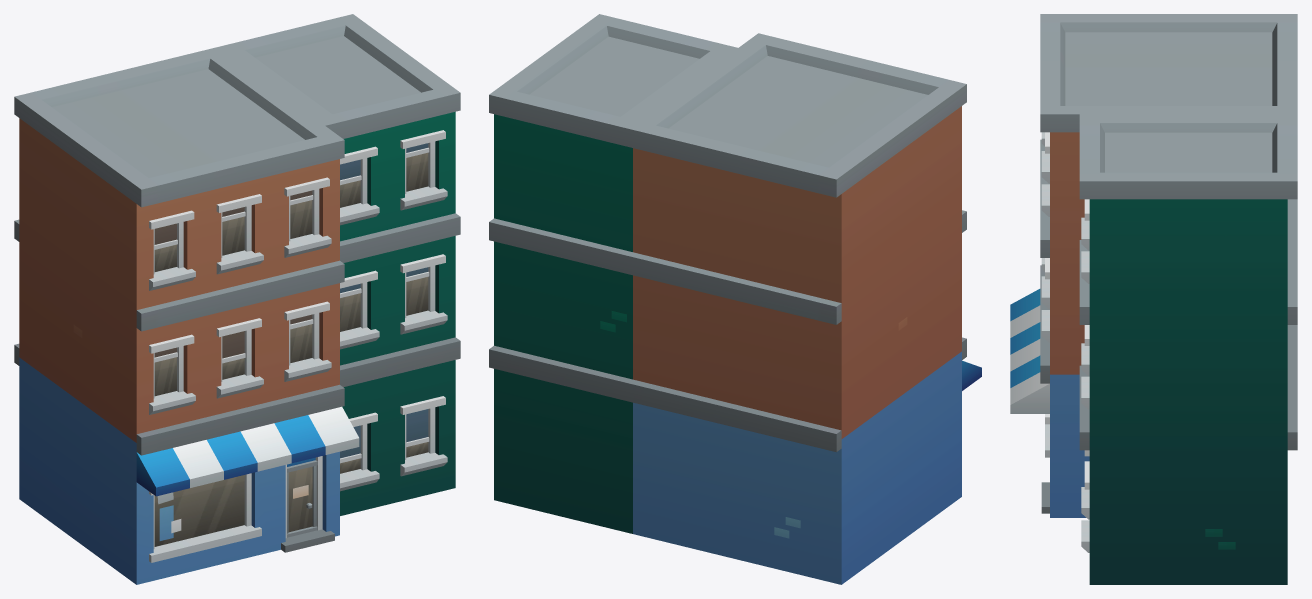
Rendered from city-g.glb.
3 renders of one model, left to right at view 1: azimuth 30°, elevation 25°; view 2: azimuth 150°, elevation 25°; view 3: azimuth 270°, elevation 25°, orthographic. The views are drawn at different scales.
Visible parts, largest first — view 1: building_G_withoutBase; view 2: building_G_withoutBase; view 3: building_G_withoutBase.
Part boxes in pixels (x1,y1,x2,y2): building_G_withoutBase: (14, 14, 460, 584); building_G_withoutBase: (489, 14, 981, 584); building_G_withoutBase: (1010, 14, 1297, 584).
Bounding box in the file's own units: 2.01 × 2.25 × 1.45.
Materials: 1 (1 with a texture image).
